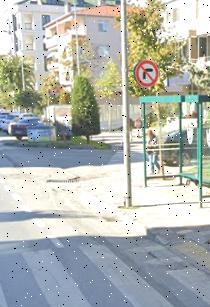rightturnsareforbidden: (135, 62, 158, 85)
